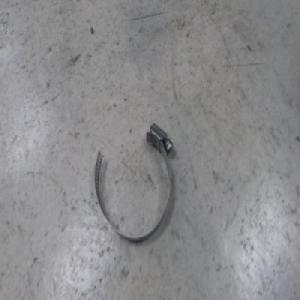AdjustableClamp: (92, 114, 178, 245)
